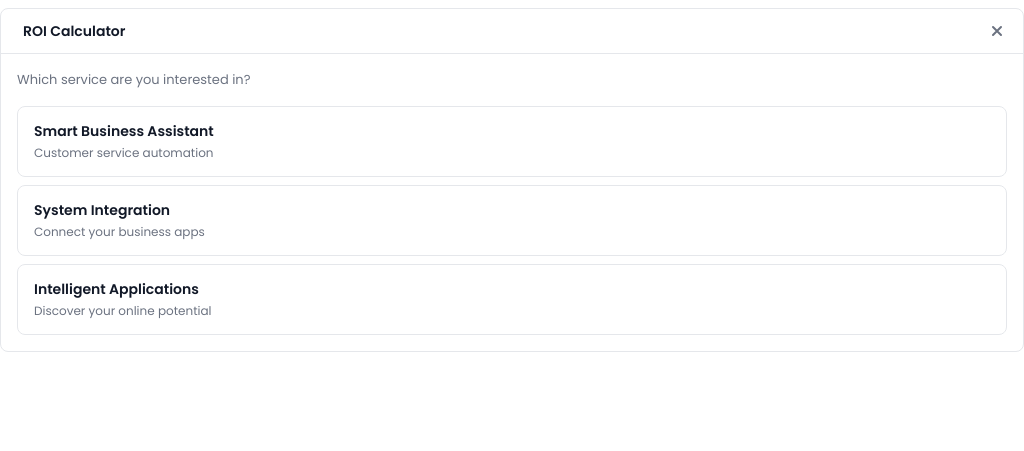
Test: ROICalculatorForm › Step Navigation › should not advance with invalid step 1 data
Select Service
Click the button "Smart Business Assistant Customer service automation".
click(124, 130)  # box top-left (17, 106), bottom-right (1007, 176)
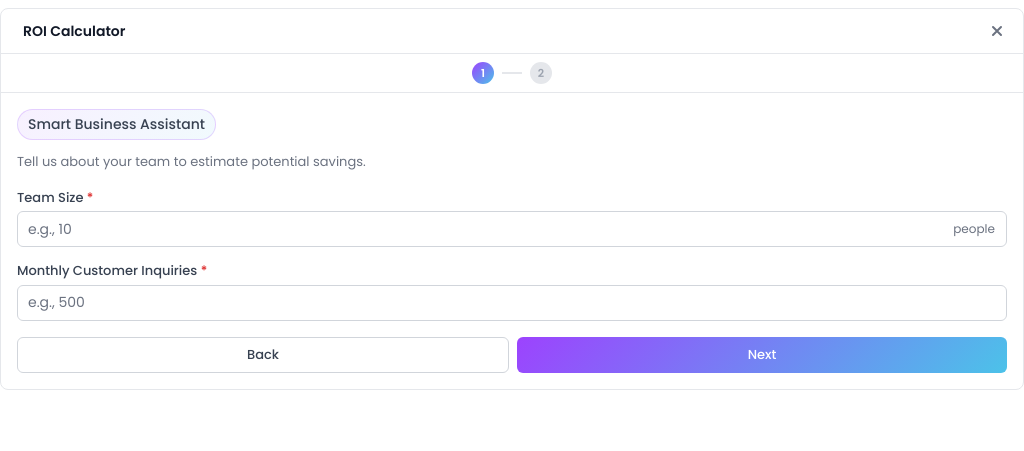
Click Next without filling fields
Click the button "Next".
click(762, 354)  # box top-left (517, 336), bottom-right (1007, 372)
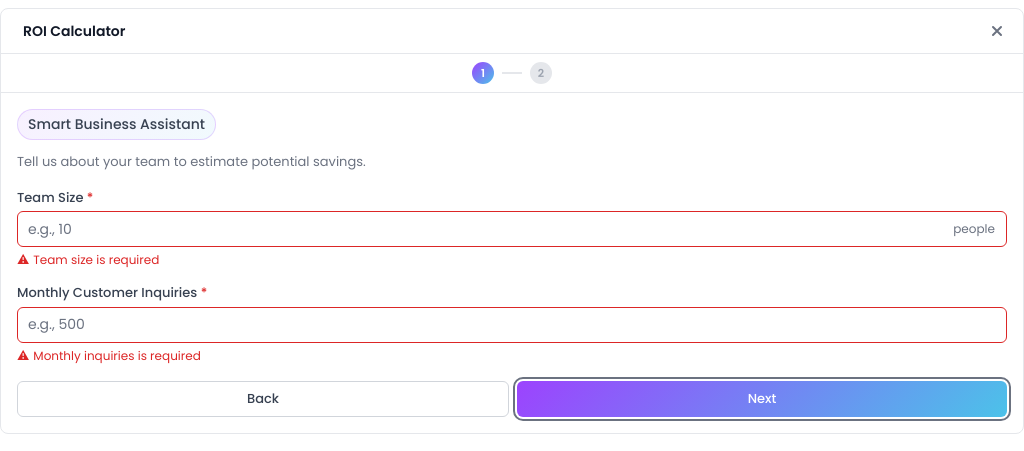
Expected: the number field labelled "Team Size" is shown, top-left (17, 211), bottom-right (1007, 247)
Expected: the number of messages is 2, top-left (17, 251), bottom-right (159, 268); top-left (17, 346), bottom-right (201, 364)
